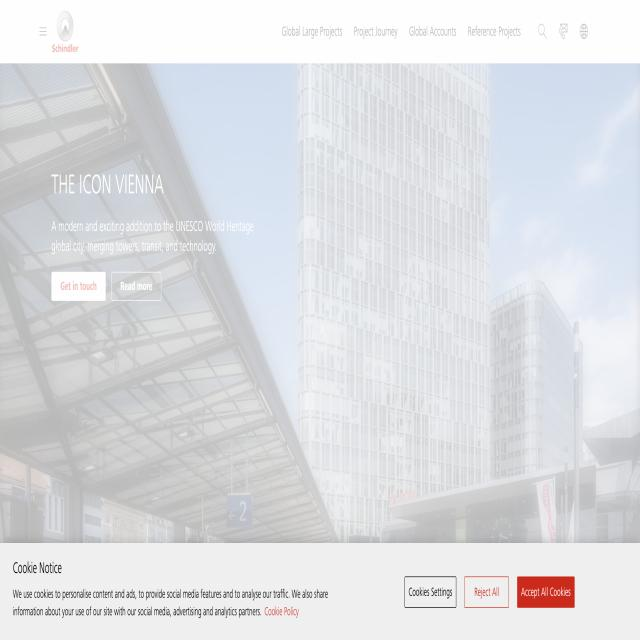Logo: (48, 5, 84, 61)
Navigation: (273, 3, 602, 50)
